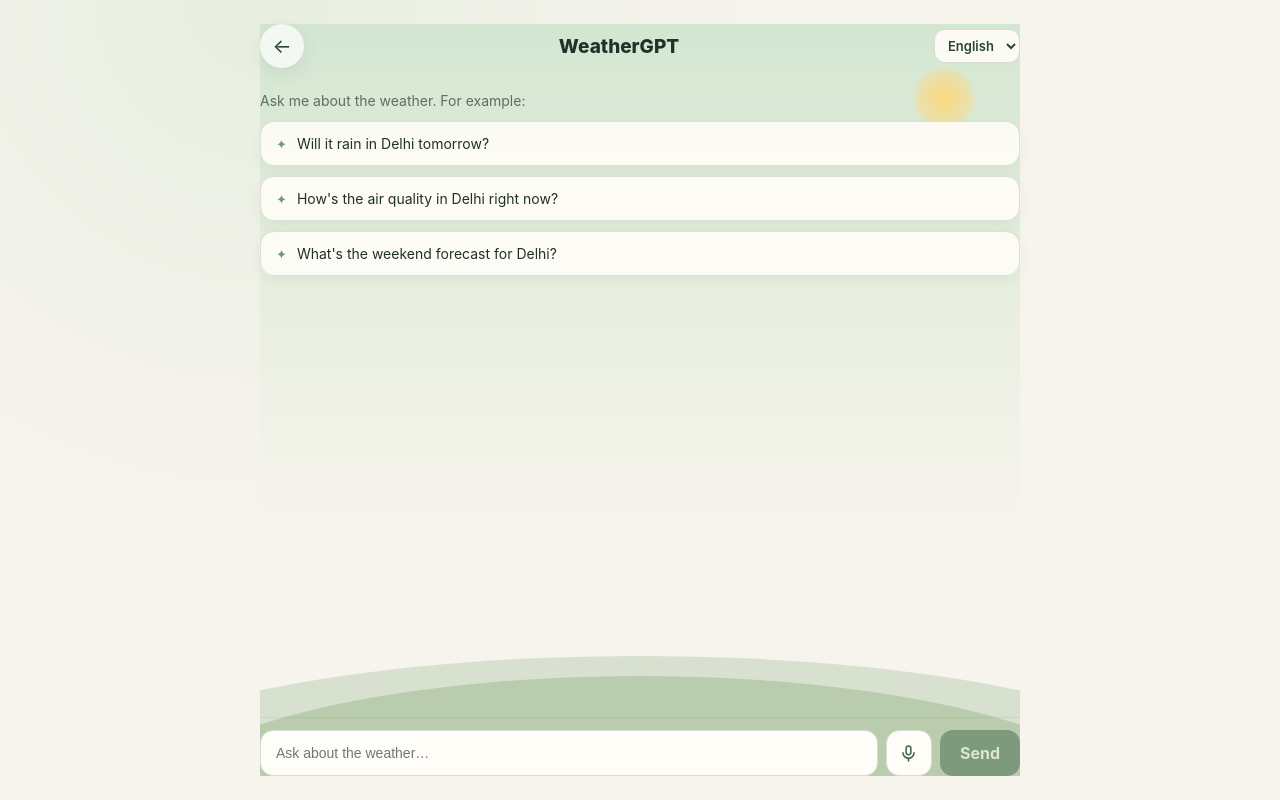
Test: sends a typed question and shows the grounded answer with provenance
The image size is (1280, 800).
Type "weather in Delhi" into the field named "Your question" at (569, 753), box left=260, top=730, right=878, bottom=776
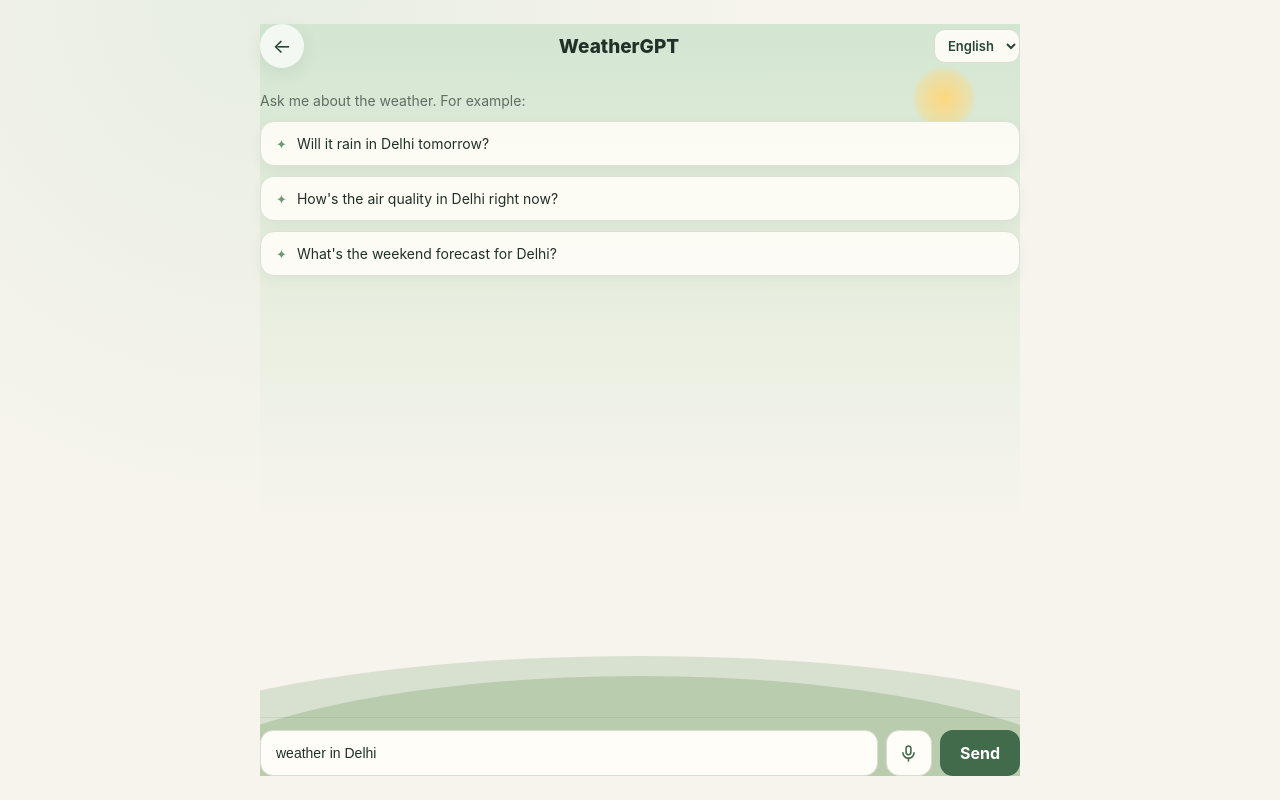
Click the button "Send" at (980, 753), box left=940, top=730, right=1020, bottom=776
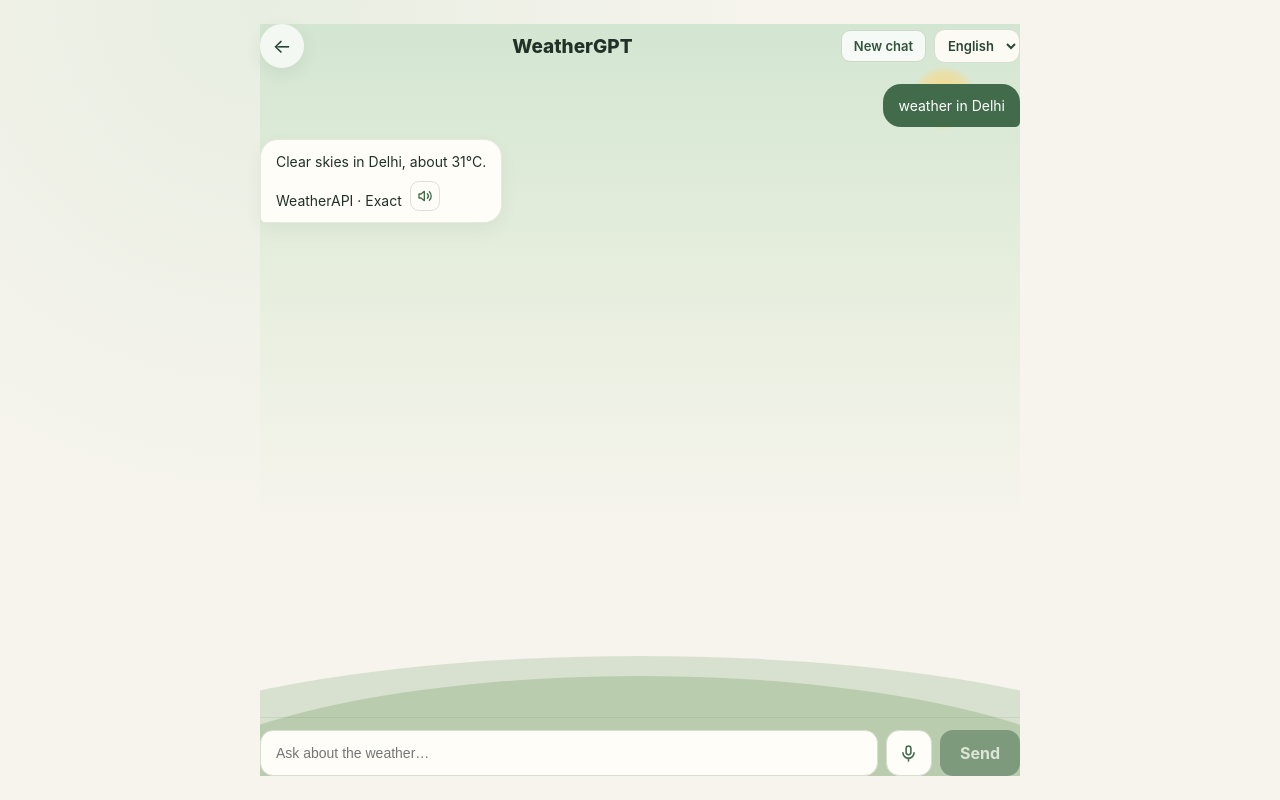
Now the text "weather in Delhi" is shown, box left=898, top=95, right=1005, bottom=116
Now the text "Clear skies in Delhi, about 31°C." is shown, box left=276, top=151, right=486, bottom=172
Now the text "WeatherAPI · Exact" is shown, box left=276, top=192, right=402, bottom=209
